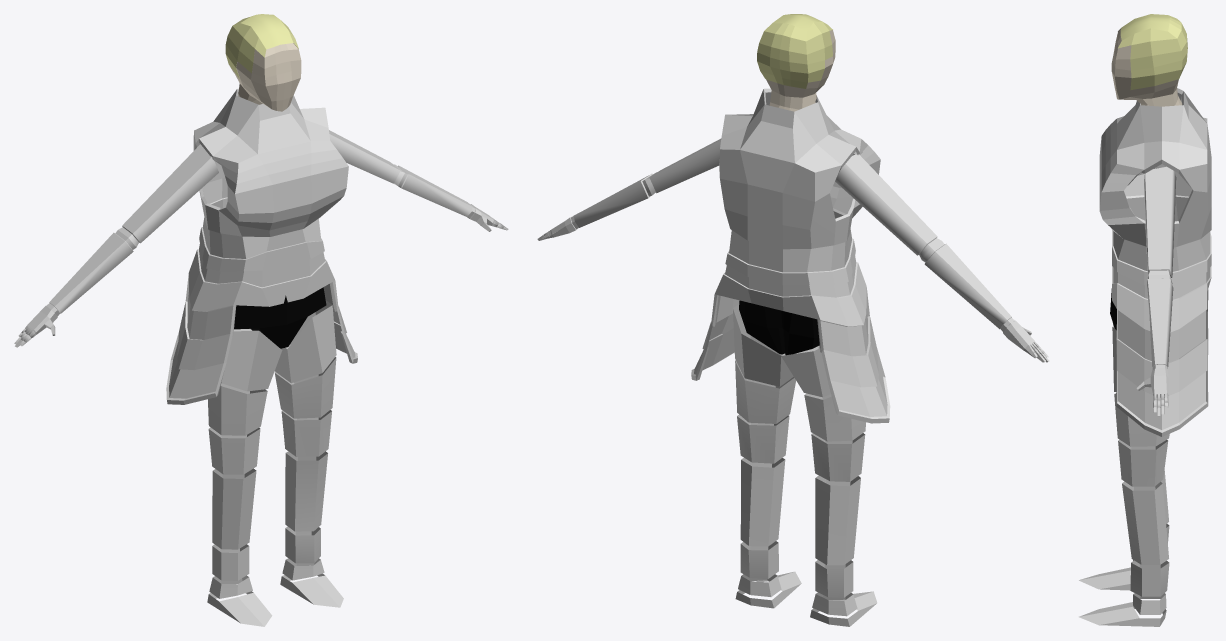
Rendered from Soldier3.fbx.
The picture shows the model from 3 angles, left to right: view 1: azimuth 30°, elevation 25°; view 2: azimuth 150°, elevation 25°; view 3: azimuth 270°, elevation 25°; orthographic projection. The views are drawn at different scales.
Visible parts, largest first — view 1: Peitoral.001, Perneiras.001, Braço Dir.001, Body, Braço Esq.001, Cintura; view 2: Peitoral.001, Perneiras.001, Braço Dir.001, Body, Braço Esq.001, Cintura; view 3: Peitoral.001, Perneiras.001, Braço Esq.001, Body.
Boxes of the visible parts, <box> form: Peitoral.001: <box>166,88,357,404</box>; Perneiras.001: <box>207,300,343,626</box>; Braço Dir.001: <box>14,144,218,347</box>; Body: <box>225,14,301,111</box>; Braço Esq.001: <box>329,130,508,231</box>; Cintura: <box>234,287,326,348</box>; Peitoral.001: <box>691,88,890,423</box>; Perneiras.001: <box>733,304,877,626</box>; Braço Dir.001: <box>835,154,1049,362</box>; Body: <box>757,14,835,111</box>; Braço Esq.001: <box>537,138,721,240</box>; Cintura: <box>739,300,819,355</box>; Peitoral.001: <box>1099,88,1211,436</box>; Perneiras.001: <box>1079,324,1169,626</box>; Braço Esq.001: <box>1136,166,1176,416</box>; Body: <box>1111,14,1187,106</box>.
Bounding box in the file's own units: 66.45 × 73.86 × 15.37.
